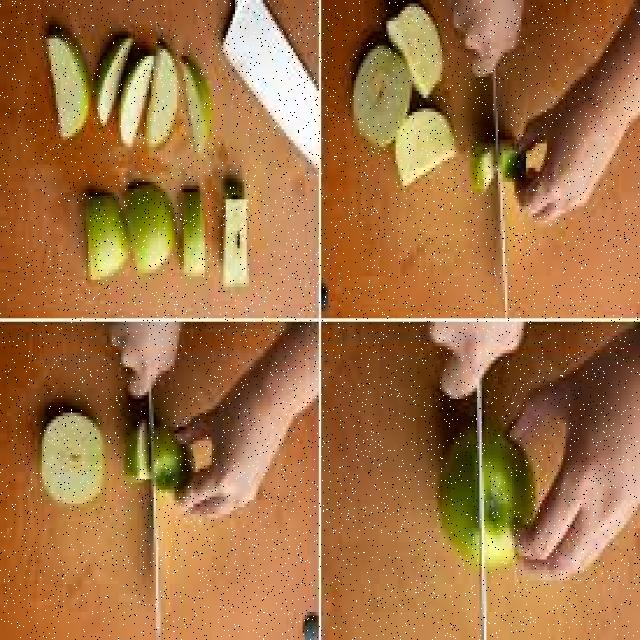Apple: (436, 420, 533, 566), (37, 34, 94, 150), (40, 406, 104, 504), (350, 48, 410, 147), (124, 418, 192, 498), (391, 8, 446, 100), (392, 108, 455, 186), (84, 182, 126, 283), (217, 171, 252, 288), (129, 182, 173, 273), (182, 51, 214, 150), (118, 58, 154, 146), (148, 49, 178, 150), (91, 40, 128, 116), (180, 183, 208, 276), (474, 143, 524, 189)
